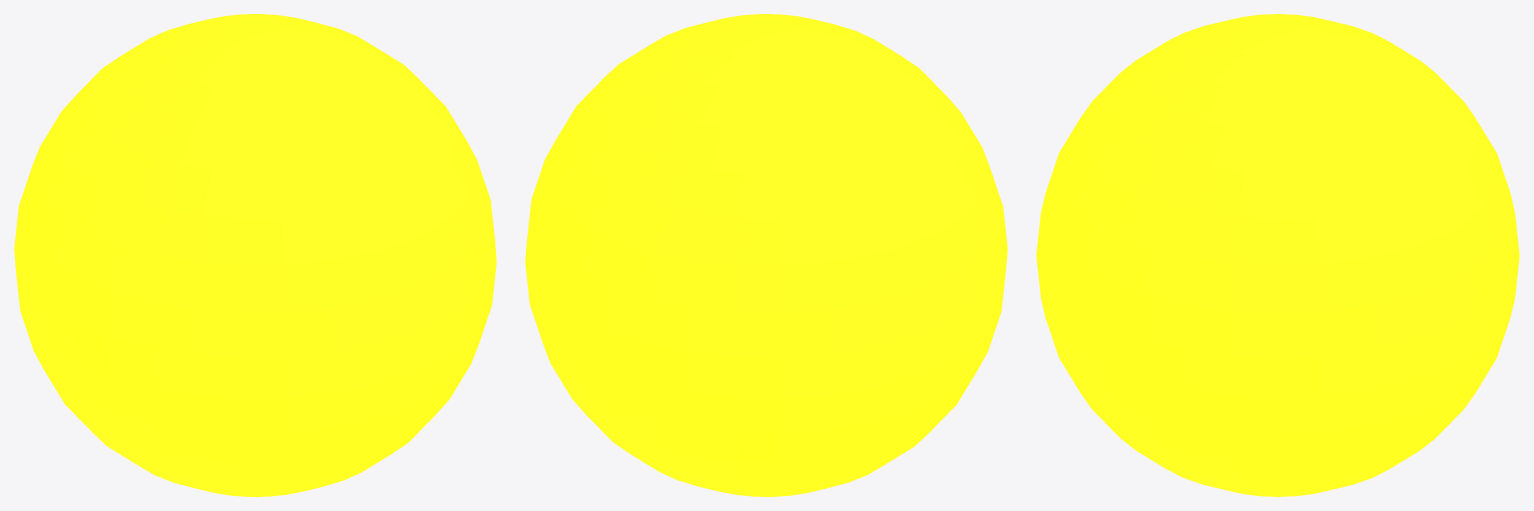
3 views of the same model, side by side, from view 1: azimuth 30°, elevation 25°; view 2: azimuth 150°, elevation 25°; view 3: azimuth 270°, elevation 25° (orthographic).
Parts seen in each view (by area): view 1: Sphere.005; view 2: Sphere.005; view 3: Sphere.005.
Part boxes in pixels (<box>): Sphere.005: <box>14,14,496,496</box>; Sphere.005: <box>525,14,1007,496</box>; Sphere.005: <box>1036,14,1519,496</box>.
Size of the model in its own units: 0.0319 by 0.0319 by 0.0319.
